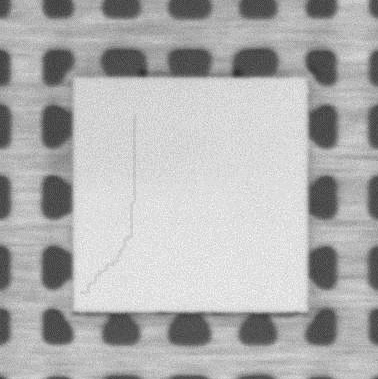DIE_CRACK: (80, 112, 138, 297)
